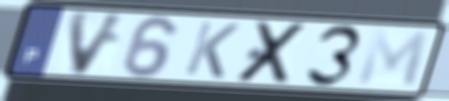3: (300, 23, 366, 89)
6: (119, 13, 181, 80)
K: (181, 19, 243, 81)
M: (353, 27, 432, 90)
V: (67, 8, 132, 78)
X: (232, 20, 313, 85)
